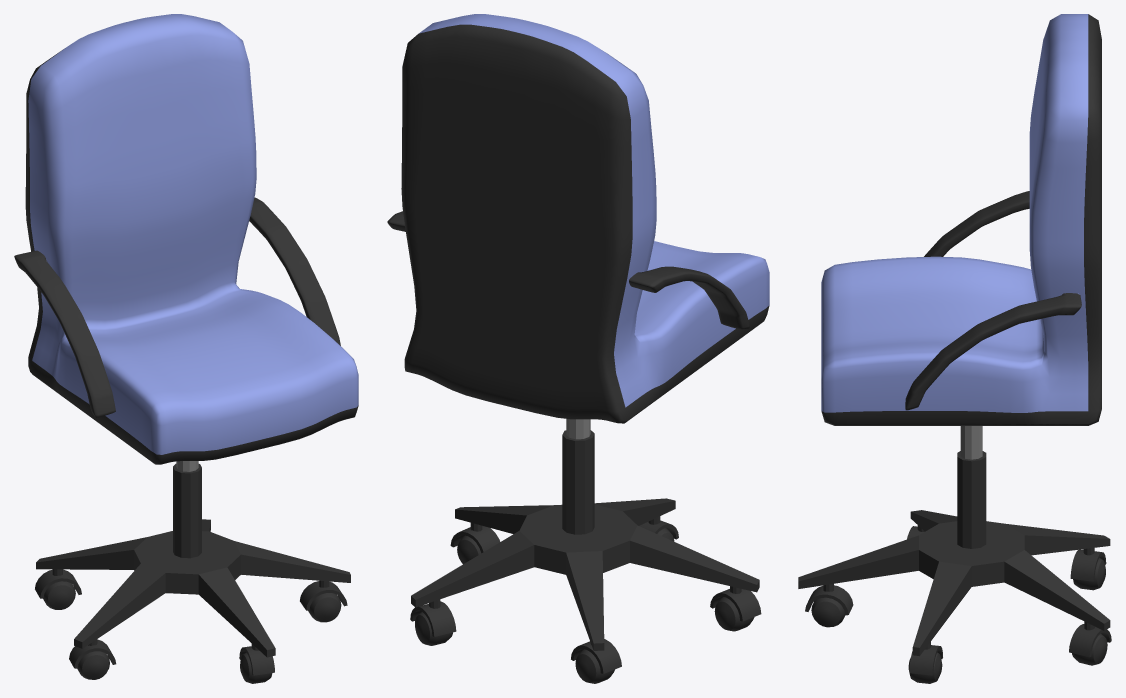
Rendered from Chair.fbx.
The picture shows the model from 3 angles, left to right: view 1: azimuth 30°, elevation 25°; view 2: azimuth 150°, elevation 25°; view 3: azimuth 270°, elevation 25°; orthographic projection. The views are drawn at different scales.
Visible parts, largest first — view 1: Chair_Uv; view 2: Chair_Uv; view 3: Chair_Uv.
Boxes of the visible parts, x1,y1,x2,y2 form: Chair_Uv: (14, 14, 358, 683); Chair_Uv: (387, 14, 769, 683); Chair_Uv: (798, 14, 1111, 683).
Size of the model in its own units: 297 by 586 by 282.
